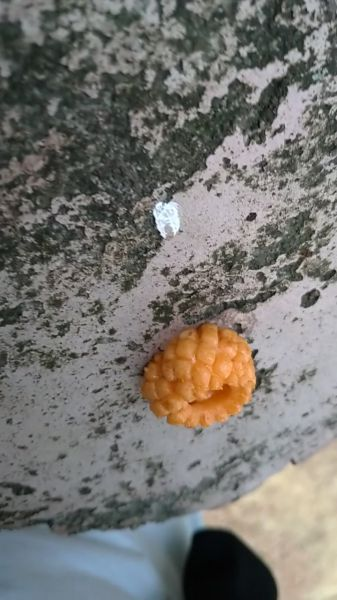eggs: (131, 317, 263, 430)
